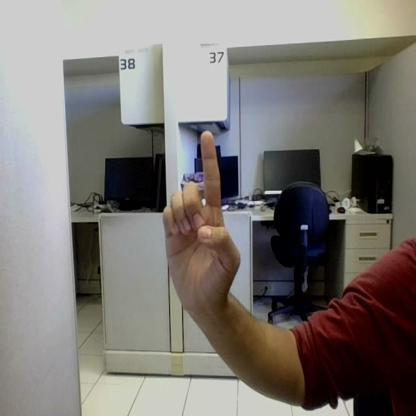D: (164, 131, 240, 306)
